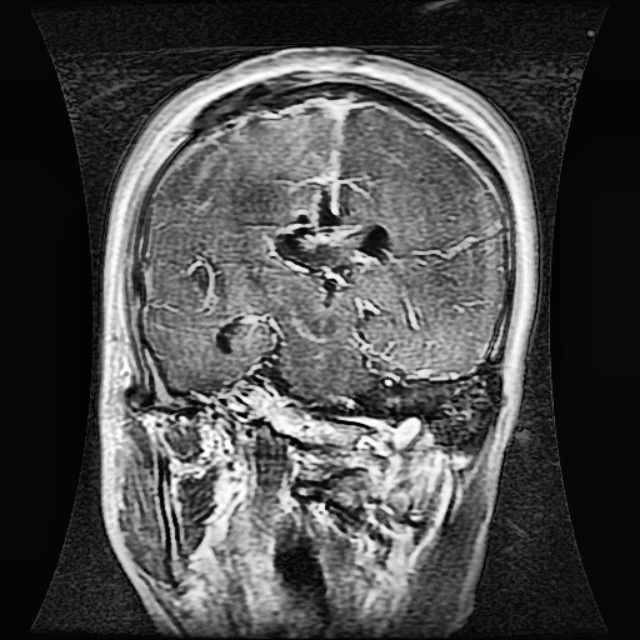Glioma: (263, 149, 394, 308)
